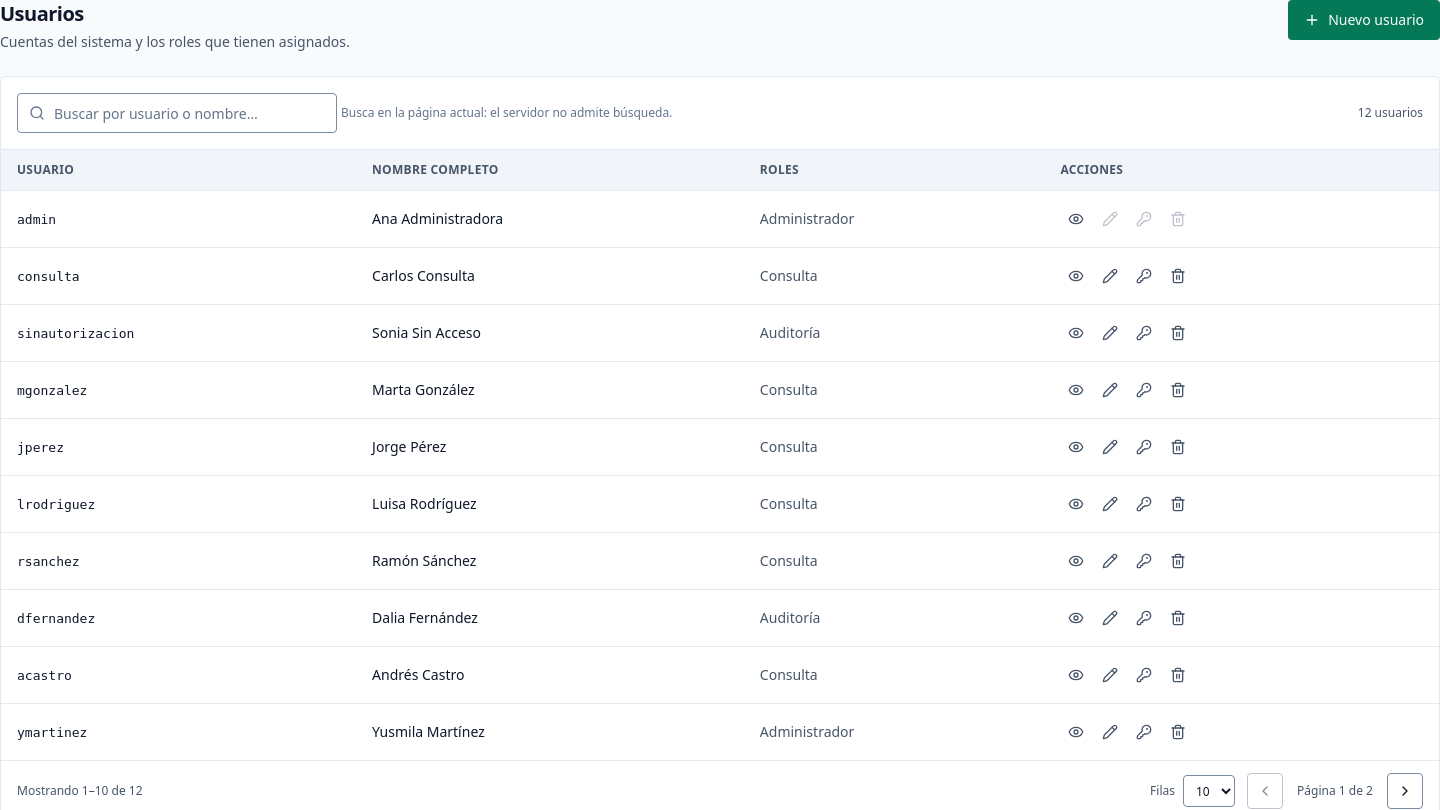
UsersPage › pagina contra el servidor y conserva la página en la URL
The width and height of the screenshot is (1440, 810).
Expected: the text "12 usuarios" is shown, [1358,105,1423,121]
Click the button named "Página siguiente" at (1405, 791), box [1387,773,1423,809]
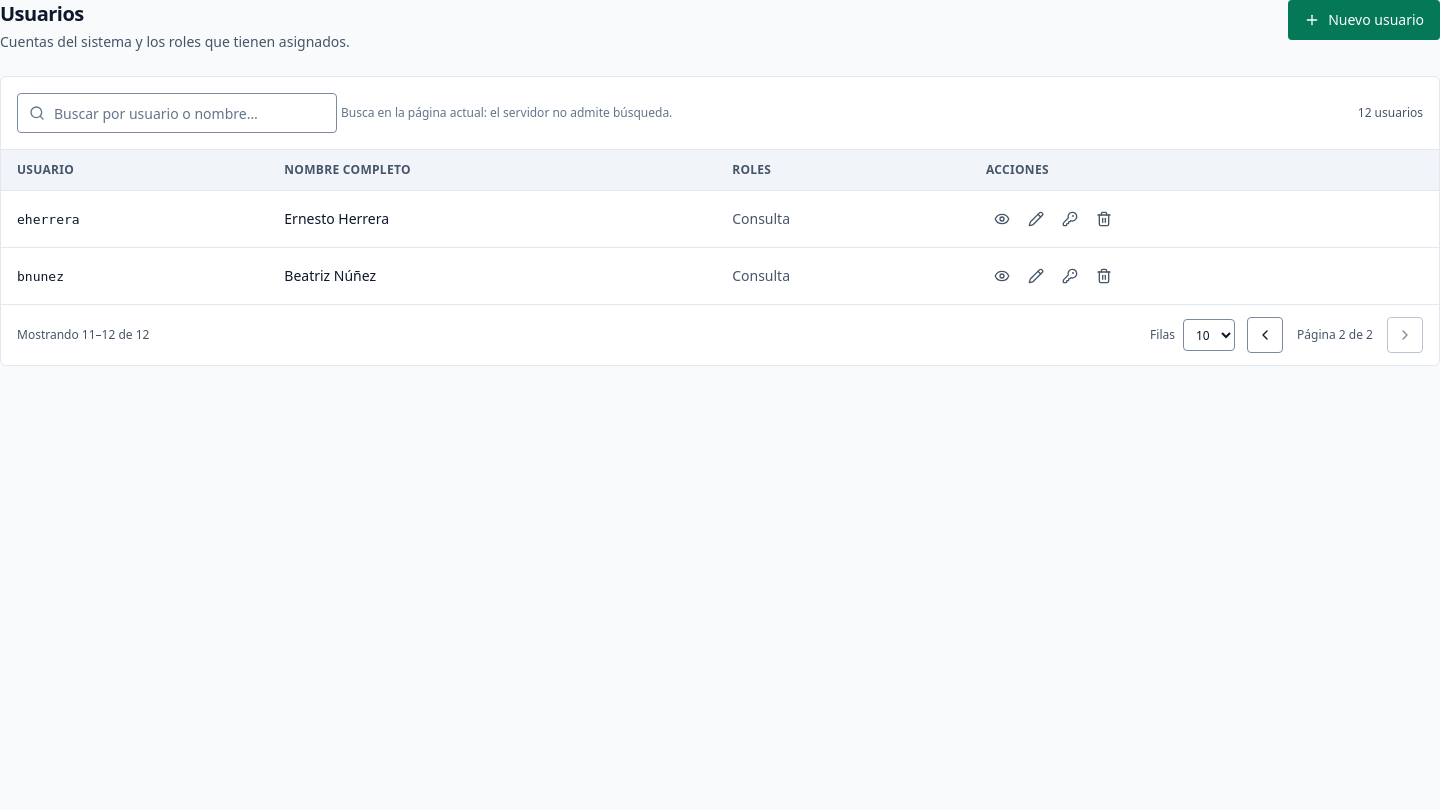
Result: the text "Mostrando 11–12 de 12" is shown at [17,327,149,343]
